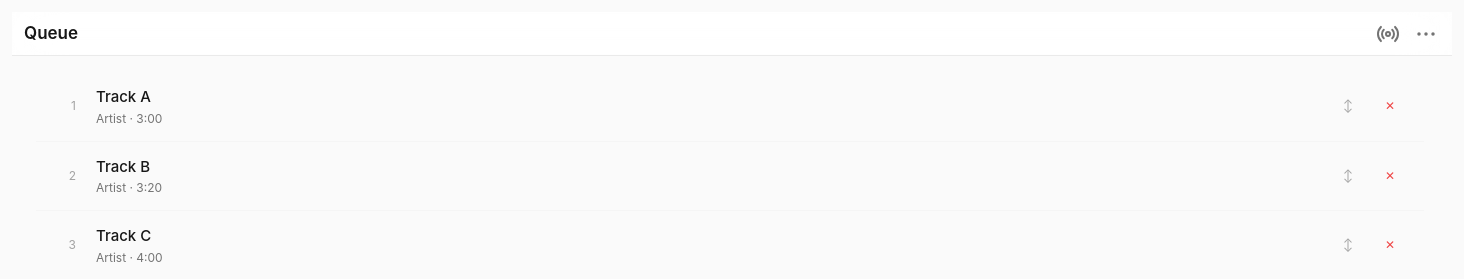
Test: QueueView › select mode › select mode toggle button appears when tracks.length > 0
The width and height of the screenshot is (1464, 279).
Click the button with test id "queue-menu".
click(1426, 34)  # box [1408, 16, 1444, 52]
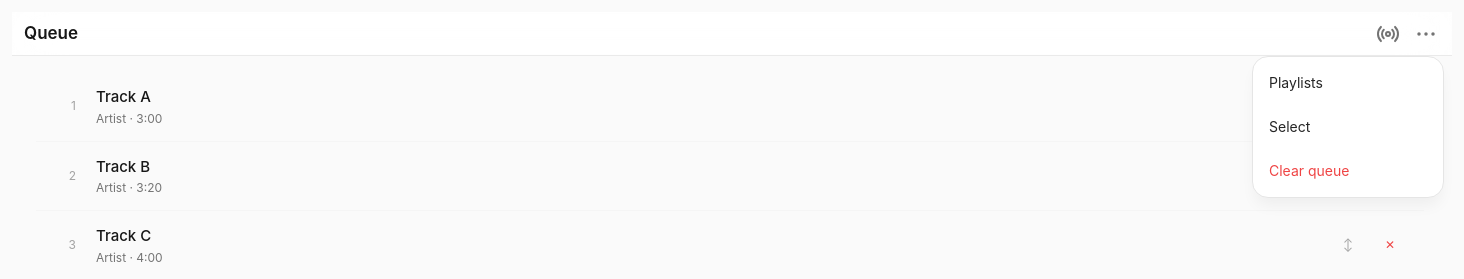
Expected: the menu item with test id "queue-select-mode-toggle" is shown, [1257, 104, 1439, 148]
